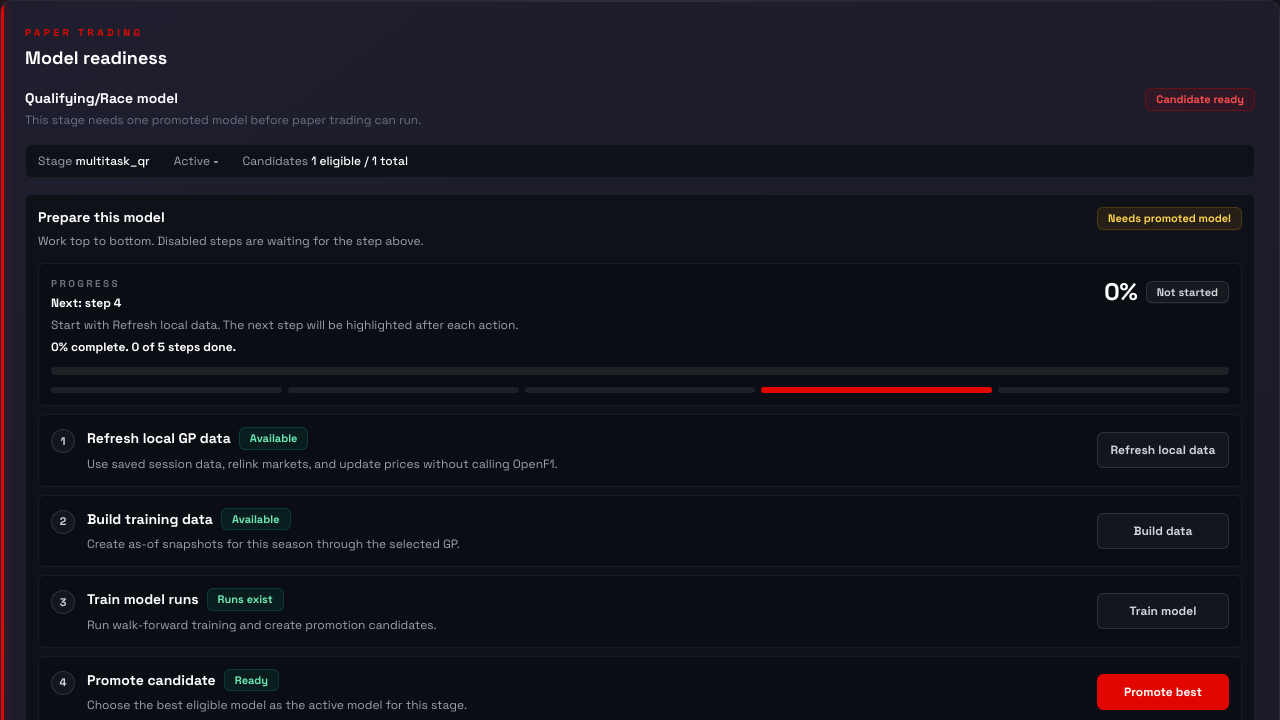
Test case: ModelReadinessPanel › shows eligible model candidates and promotes the best candidate
Expected: the heading "Model readiness" is shown, [25, 46, 167, 69]
Expected: the text "Candidate ready" is shown, [1145, 88, 1255, 110]
What coordinates should you click on to do the following:
click the button "Promote best"
I would click on:
 (1163, 692)
Its box is [1097, 674, 1229, 710].
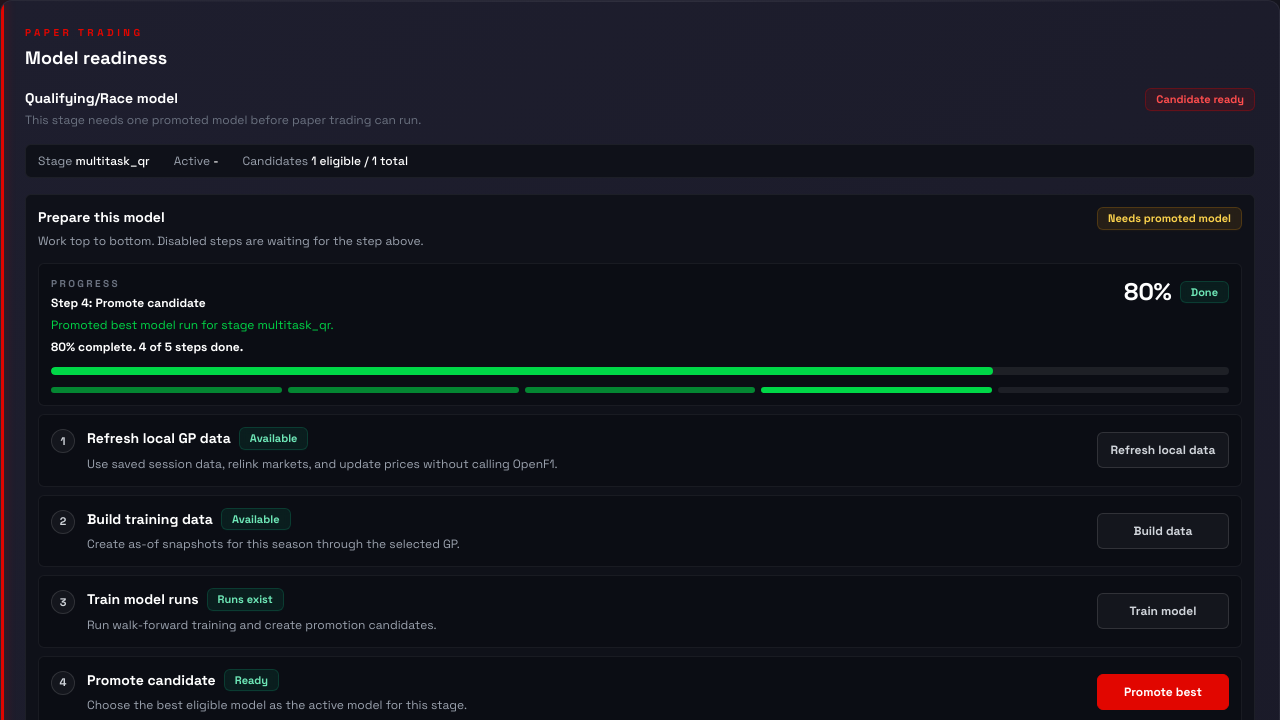
Result: the text "Promoted best model run for stage multitask_qr." is shown at [51, 315, 334, 335]
